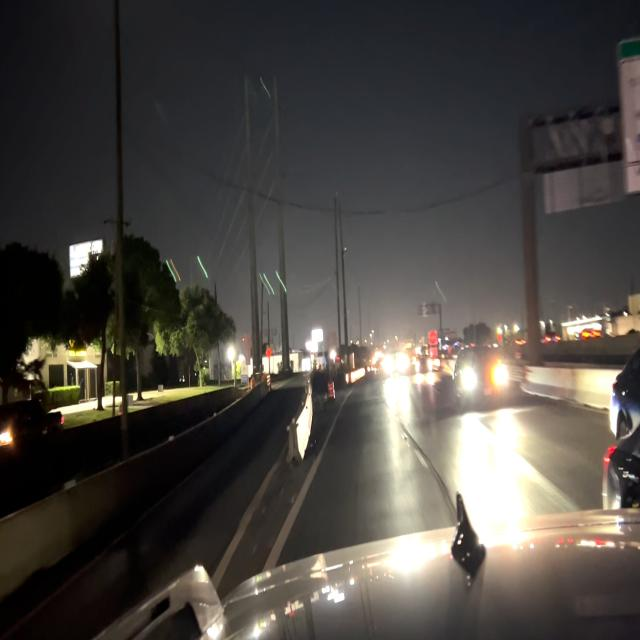back-of-sign: (415, 295, 441, 324)
